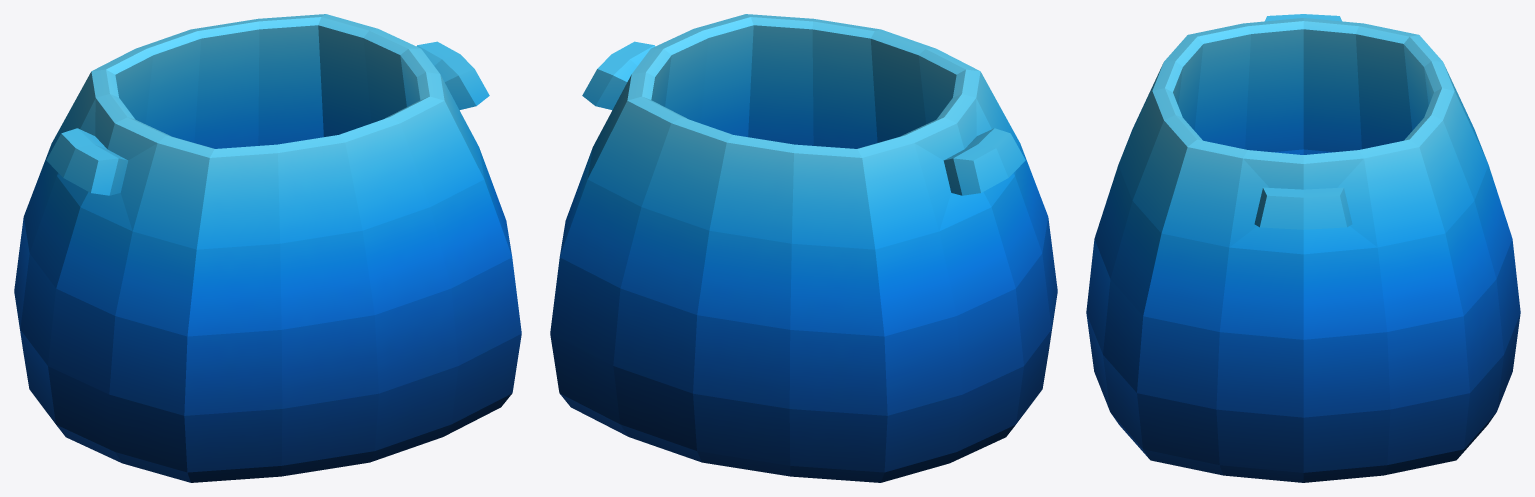
Rendered from PlantPot_10.fbx.
3 renders of one model, left to right at view 1: azimuth 30°, elevation 25°; view 2: azimuth 150°, elevation 25°; view 3: azimuth 270°, elevation 25°, orthographic. The views are drawn at different scales.
Parts seen in each view (by area): view 1: PlantPot_10; view 2: PlantPot_10; view 3: PlantPot_10.
Boxes of the visible parts, left/top/right/bottom form: PlantPot_10: left=14, top=14, right=521, bottom=482; PlantPot_10: left=550, top=14, right=1057, bottom=482; PlantPot_10: left=1086, top=14, right=1520, bottom=482.
Size of the model in its own units: 21.88 by 14.49 by 19.12.
